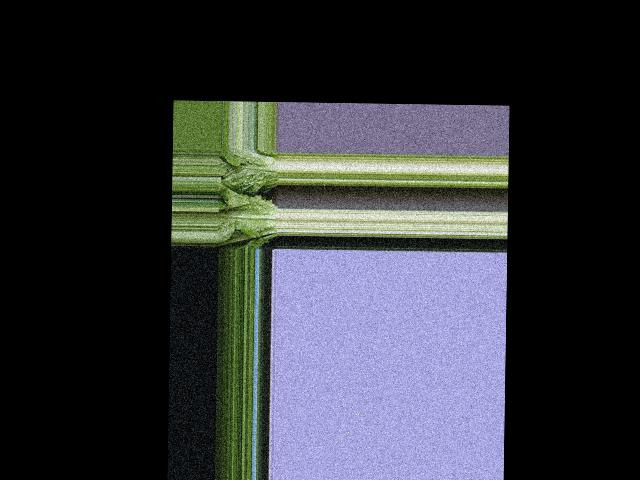lettuce: (221, 151, 279, 191)
